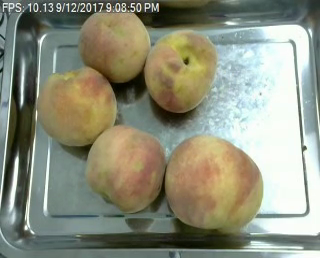Peach: (164, 133, 263, 233), (83, 124, 167, 211), (37, 67, 117, 147), (143, 29, 217, 113), (78, 6, 150, 82)
